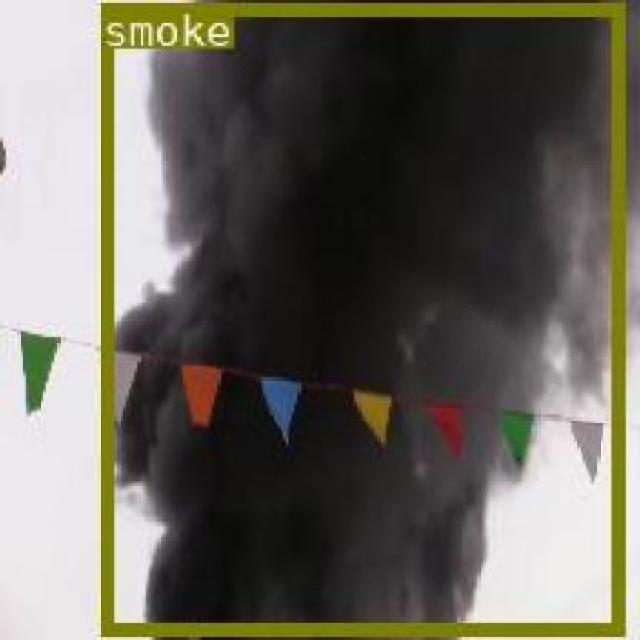Smoke: (100, 0, 623, 634)
